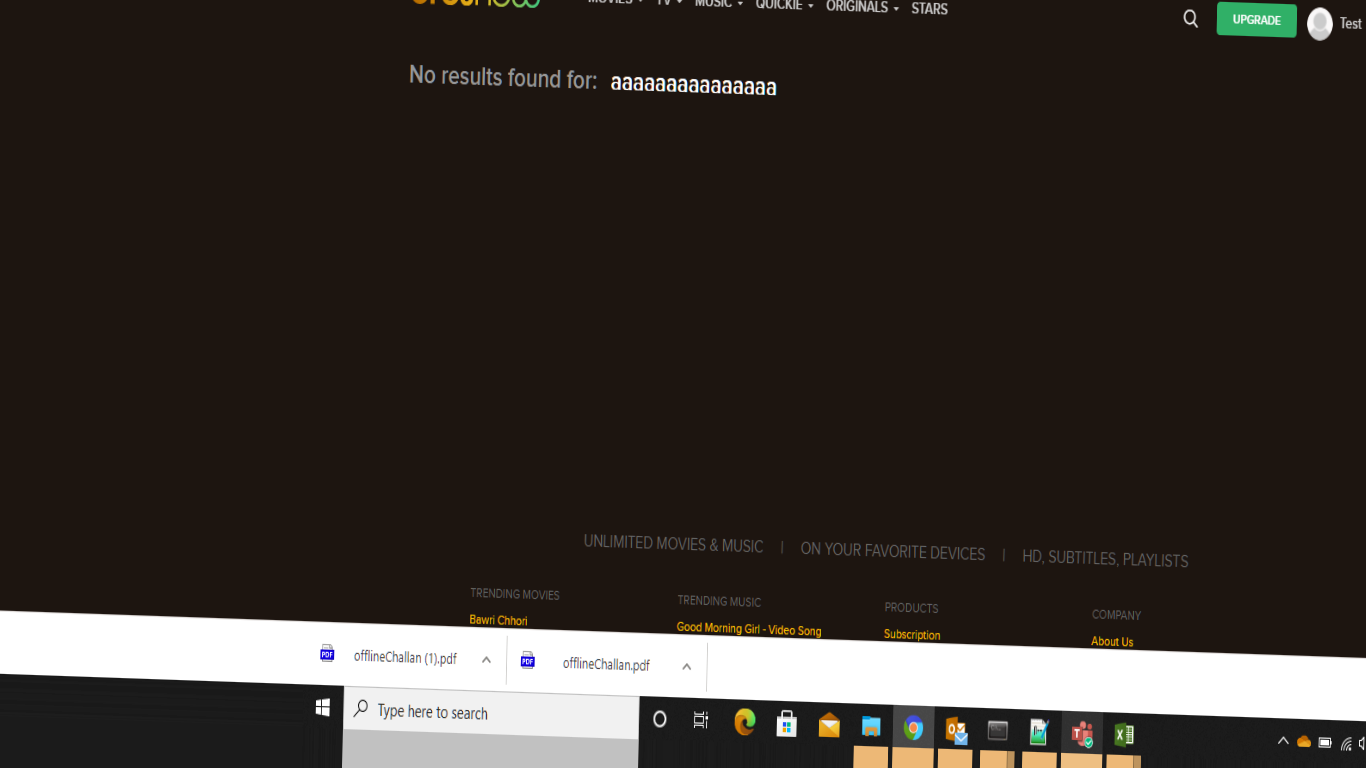noresultsfound: (382, 42, 790, 111)
profileicon: (1300, 5, 1363, 53)
searchicon: (1163, 3, 1208, 34)
